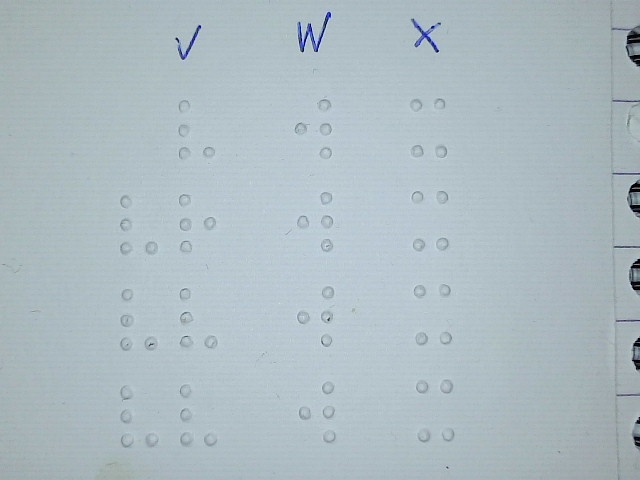V: (177, 382, 218, 447), (118, 383, 159, 448), (176, 97, 217, 160), (118, 193, 159, 256), (178, 286, 219, 349)
W: (292, 97, 333, 160), (295, 189, 336, 252), (295, 284, 336, 347), (296, 380, 337, 443)
X: (408, 95, 449, 158), (410, 188, 451, 251), (412, 282, 453, 345), (414, 378, 455, 441)
